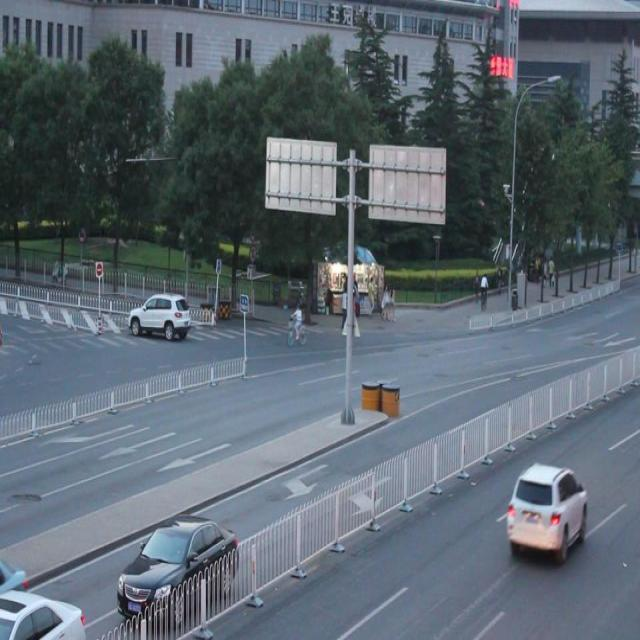car: (114, 507, 239, 618), (504, 464, 588, 558), (1, 585, 92, 640), (128, 291, 190, 341), (1, 548, 30, 594)
